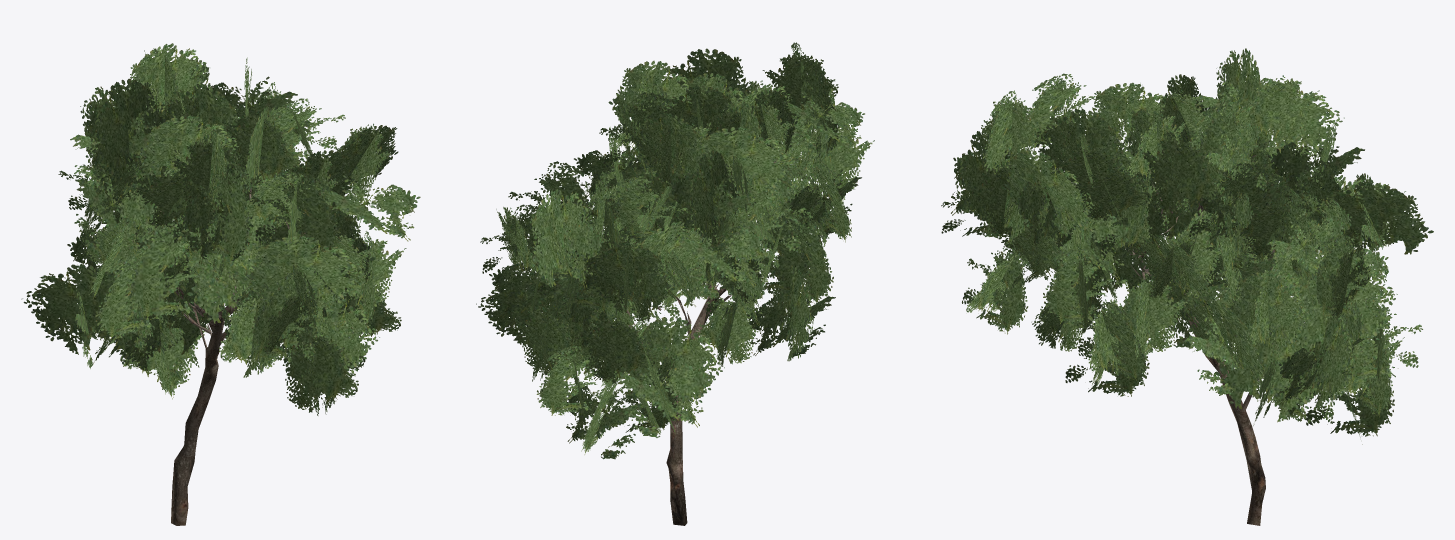
Rendered from tree-small-02-far.glb.
The picture shows the model from 3 angles, left to right: view 1: azimuth 30°, elevation 25°; view 2: azimuth 150°, elevation 25°; view 3: azimuth 270°, elevation 25°; orthographic projection. The views are drawn at different scales.
Visible parts, largest first — view 1: tree_small_02_LOD0; view 2: tree_small_02_LOD0; view 3: tree_small_02_LOD0.
Boxes of the visible parts, bbox=[...] form: tree_small_02_LOD0: bbox=[21, 43, 420, 525]; tree_small_02_LOD0: bbox=[476, 42, 874, 525]; tree_small_02_LOD0: bbox=[941, 48, 1433, 525].
Bounding box in the file's own units: 3.93 × 5.09 × 5.2.
3 materials, 3 textured.
